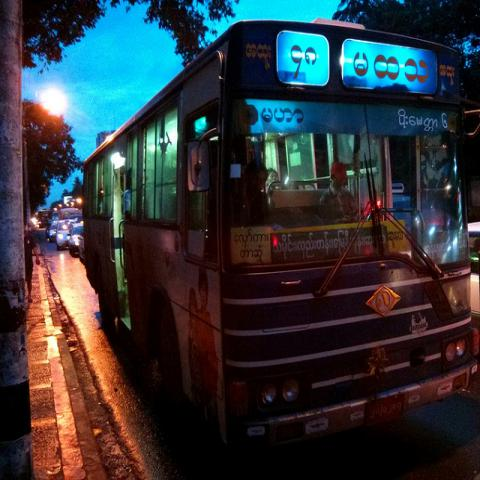bus: (82, 17, 472, 462)
car: (469, 220, 479, 318), (69, 222, 86, 256), (55, 220, 74, 248), (44, 219, 59, 240), (59, 208, 82, 221), (79, 235, 86, 267)
